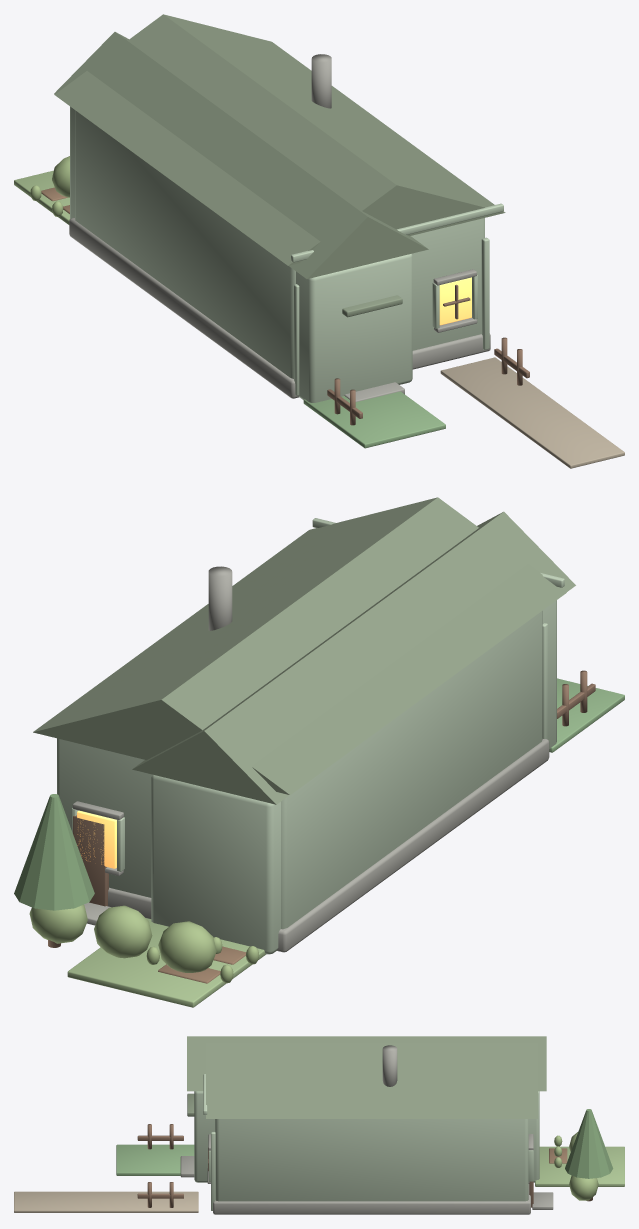
Rendered from woodland_crosswing_house_v1.060efe139908.glb.
The picture shows the model from 3 angles, top to bottom: view 1: azimuth 30°, elevation 25°; view 2: azimuth 150°, elevation 25°; view 3: azimuth 270°, elevation 25°; orthographic projection. The views are drawn at different scales.
Visible parts, largest first — view 1: MainRoof, MainBody, CrossWingRoof, CrossWing, Driveway, StonePlinth, FrontGreenVerge, FrontWindow1, FrontFascia, Chimney, CornerQuoin, RearYardPatch (+2 smaller); view 2: MainRoof, MainBody, CrossWingRoof, CrossWing, StonePlinth, YardTreeCrown, RearYardPatch, Hedge2, Hedge1, FrontGreenVerge, ServiceDoor, Hedge3 (+3 smaller); view 3: MainBody, MainRoof, StonePlinth, CrossWingRoof, Driveway, FrontGreenVerge, YardTreeCrown, CrossWing, RearYardPatch, Chimney, Hedge3, ServiceStep (+2 smaller).
Boxes of the visible parts, x1,y1,x2,y2 form: MainRoof: (55, 14, 505, 265); MainBody: (75, 110, 484, 378); CrossWingRoof: (54, 32, 428, 278); CrossWing: (70, 106, 412, 402); Driveway: (440, 357, 624, 468); StonePlinth: (69, 217, 490, 398); FrontGreenVerge: (303, 391, 445, 448); FrontWindow1: (439, 277, 471, 325); FrontFascia: (291, 203, 503, 262); Chimney: (311, 54, 331, 108); CornerQuoin: (481, 237, 489, 349); RearYardPatch: (14, 170, 69, 224); MainRoof: (33, 497, 566, 794); MainBody: (57, 611, 542, 929); CrossWingRoof: (132, 511, 575, 804); CrossWing: (151, 600, 556, 954); StonePlinth: (108, 739, 549, 952); YardTreeCrown: (14, 794, 94, 910); RearYardPatch: (67, 918, 265, 1007); Hedge2: (94, 905, 152, 958); Hedge1: (158, 921, 216, 972); FrontGreenVerge: (549, 678, 624, 752); ServiceDoor: (73, 815, 108, 906); Hedge3: (29, 904, 87, 943); MainBody: (215, 1119, 528, 1201); MainRoof: (206, 1043, 537, 1118); StonePlinth: (213, 1184, 530, 1214); CrossWingRoof: (187, 1036, 546, 1091); Driveway: (14, 1191, 198, 1212); FrontGreenVerge: (116, 1144, 194, 1175); YardTreeCrown: (565, 1109, 613, 1178); CrossWing: (194, 1091, 539, 1182); RearYardPatch: (535, 1146, 624, 1186); Chimney: (382, 1045, 397, 1086); Hedge3: (569, 1175, 598, 1200); ServiceStep: (532, 1192, 553, 1209).
Bounding box in the file's own units: 6.95 × 6.5 × 23.79.
